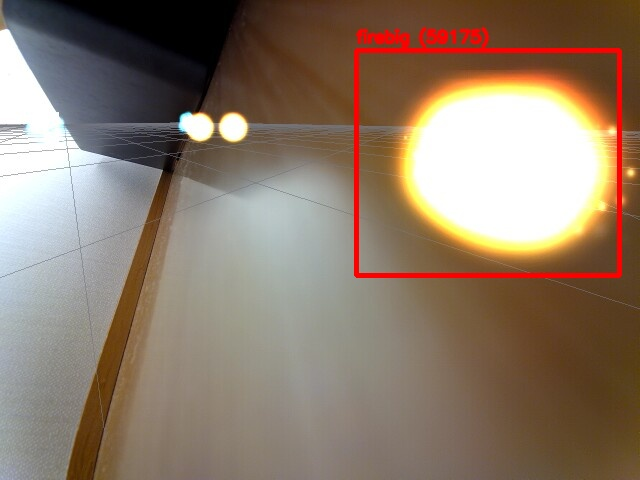firebig: (356, 50, 619, 275)
